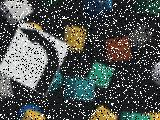Left: (0, 20, 70, 96)
